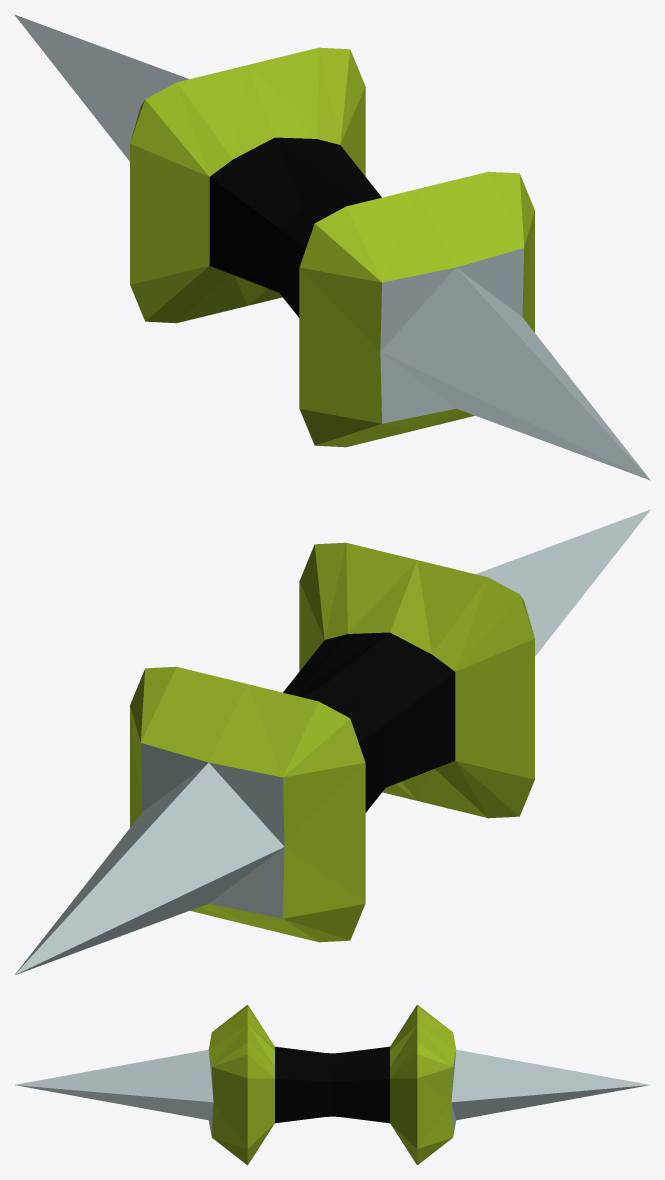
File: needle_L_arm.obj
3 views of the same model, one above another, from view 1: azimuth 30°, elevation 25°; view 2: azimuth 150°, elevation 25°; view 3: azimuth 270°, elevation 25° (orthographic). The views are drawn at different scales.
Parts seen in each view (by area): view 1: LArm; view 2: LArm; view 3: LArm.
Boxes of the visible parts, left/top/right/bottom form: LArm: left=14, top=14, right=650, bottom=480; LArm: left=14, top=509, right=650, bottom=975; LArm: left=15, top=1004, right=649, bottom=1165.
Bounding box in the file's own units: 0.4827 × 0.4718 × 2.26.
Materials: 1 (1 with a texture image).
